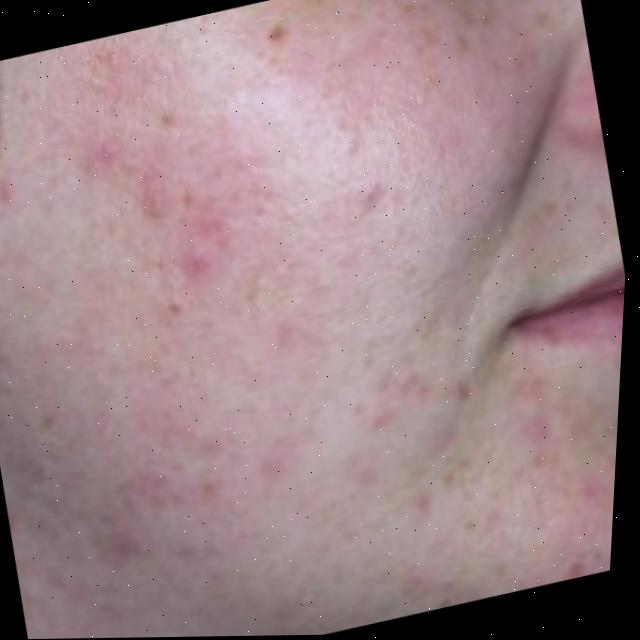Acne: (0, 0, 640, 604)
